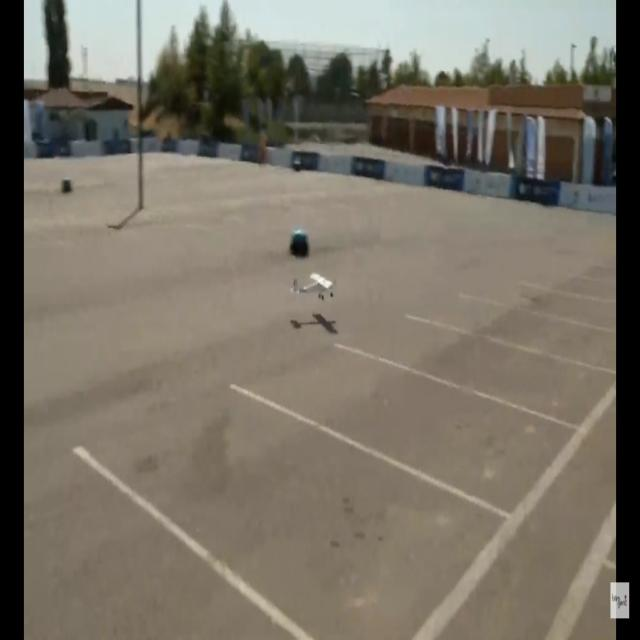iha: (289, 272, 337, 301)
